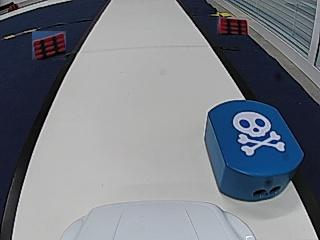danger: (234, 112, 285, 155)
